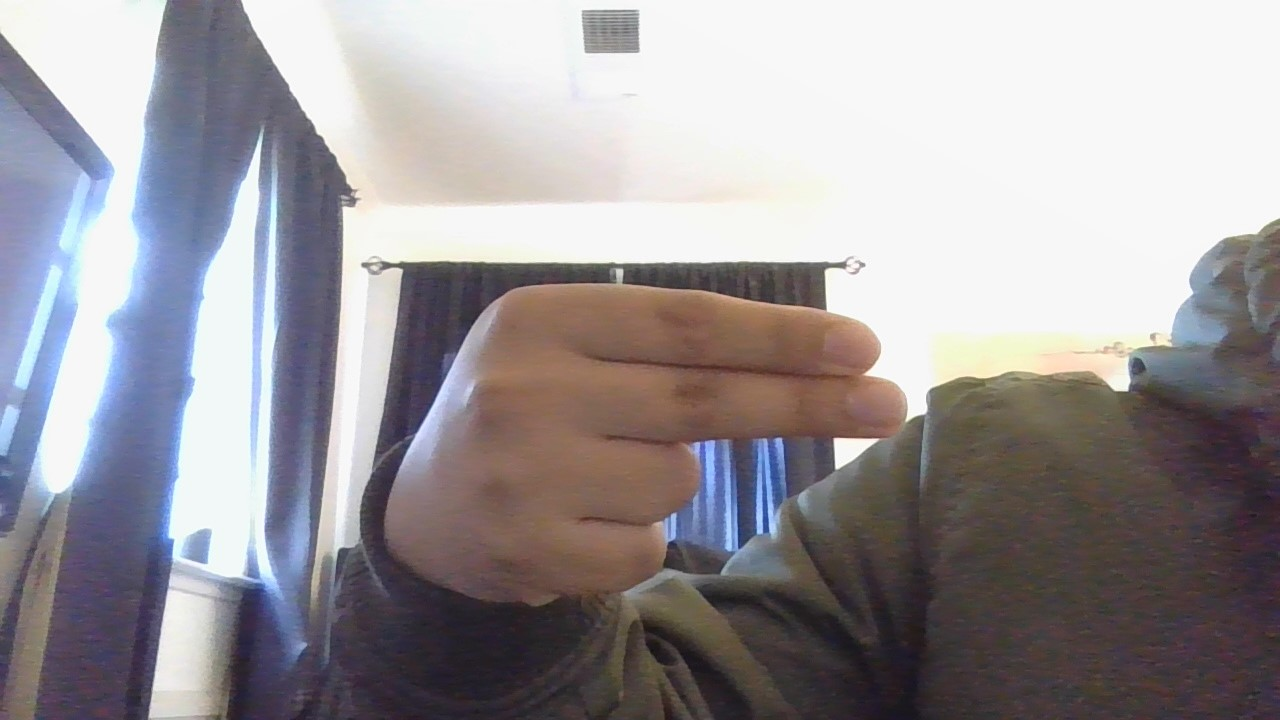h: (301, 277, 941, 644)
